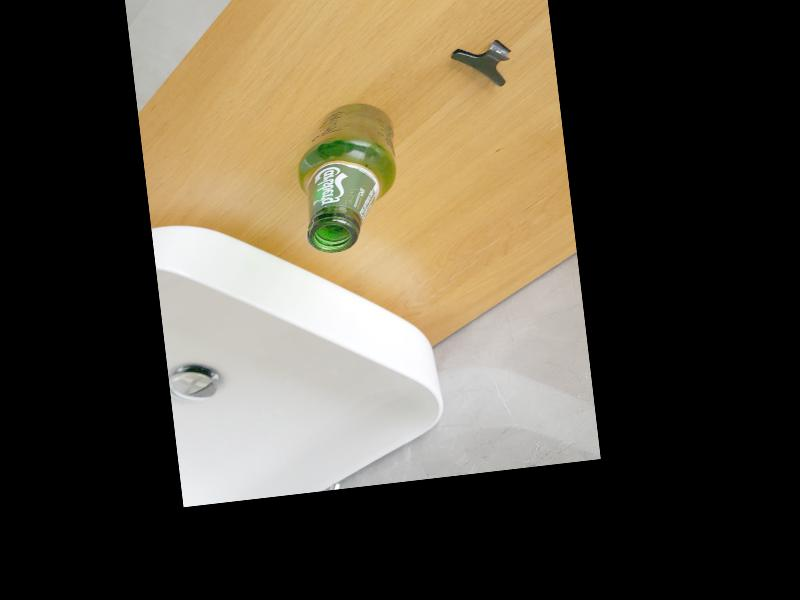Beer: (291, 98, 404, 254)
